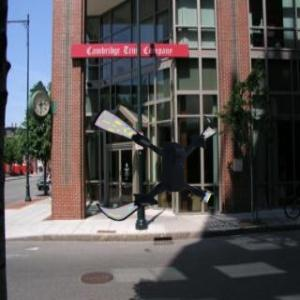drone: (81, 94, 220, 233)
